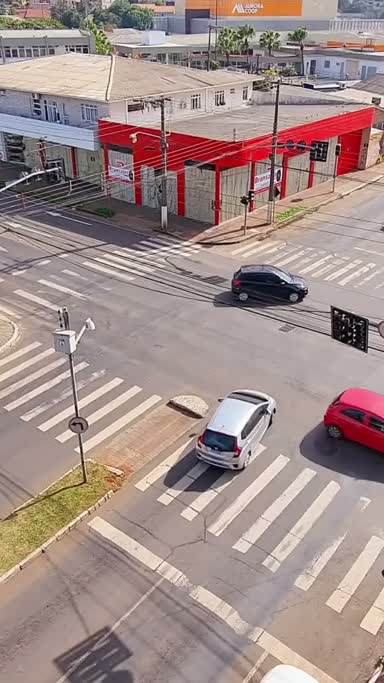car: (193, 381, 280, 484), (322, 374, 384, 460), (222, 258, 313, 312)
